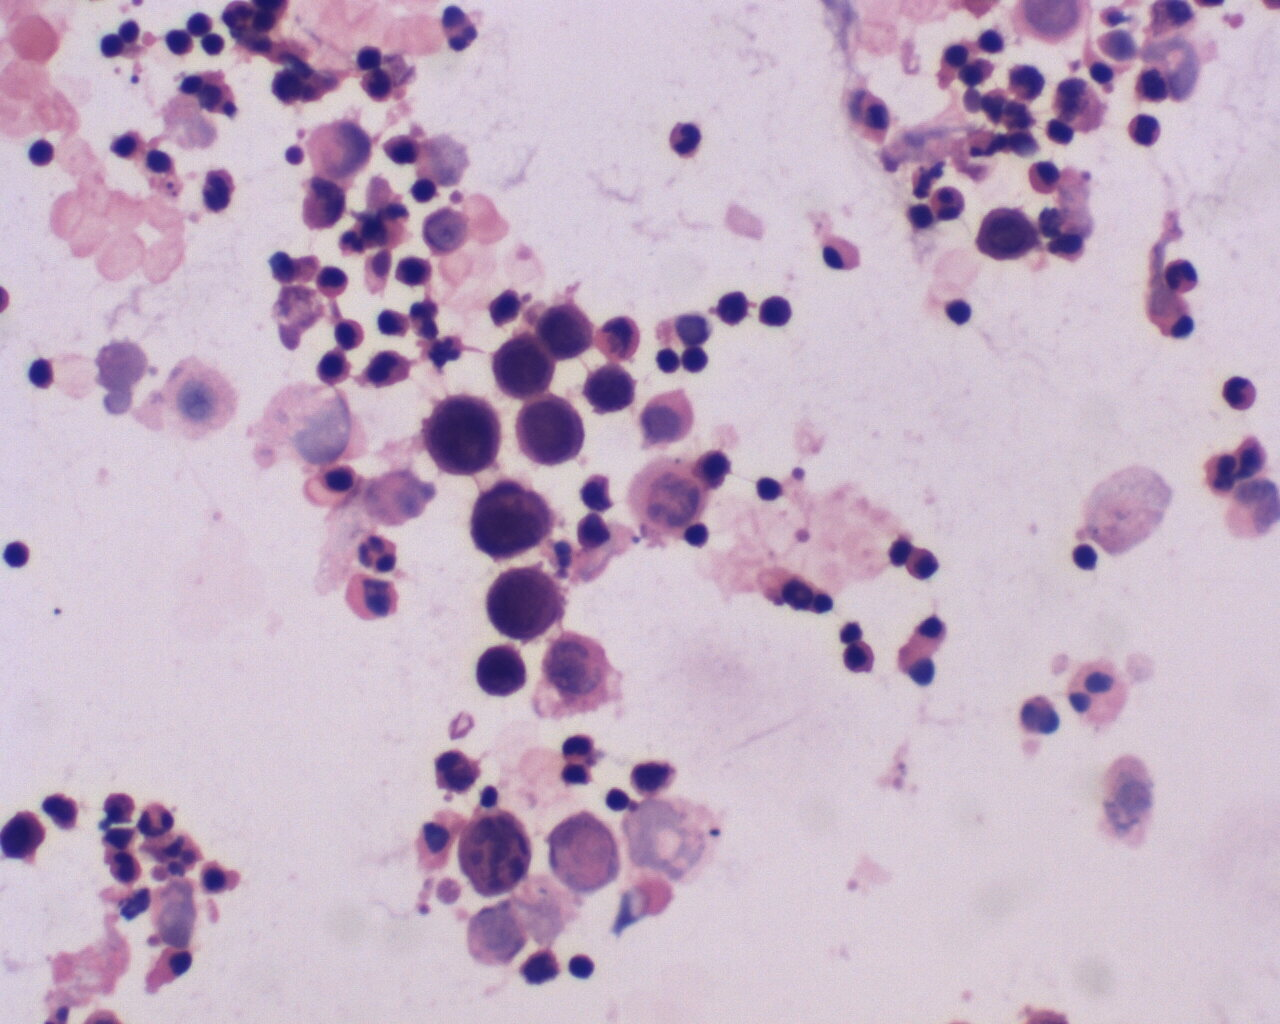ab: (420, 388, 507, 478), (464, 482, 557, 560), (480, 565, 569, 642), (508, 394, 587, 468), (487, 328, 557, 399), (975, 203, 1043, 260), (475, 643, 534, 706), (579, 359, 638, 413), (541, 299, 591, 360)
lymph: (22, 135, 69, 174), (599, 784, 634, 821), (1063, 541, 1097, 577), (750, 472, 784, 509), (1, 536, 32, 574), (942, 293, 975, 328), (678, 519, 709, 555), (408, 171, 438, 203)
neutro: (348, 525, 405, 575), (1214, 370, 1269, 422), (135, 800, 187, 842), (667, 114, 708, 162), (1120, 108, 1163, 152), (106, 850, 153, 888)
